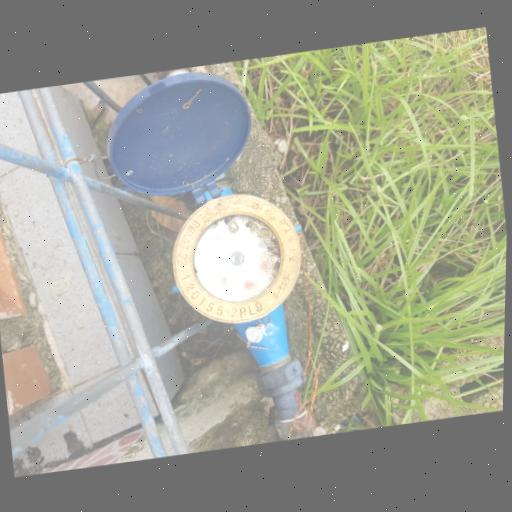0: (210, 243, 220, 256)
1: (243, 228, 255, 242)
2: (217, 239, 228, 253), (226, 235, 236, 249), (235, 233, 245, 245)
border_water_meter_number: (205, 227, 257, 259)
